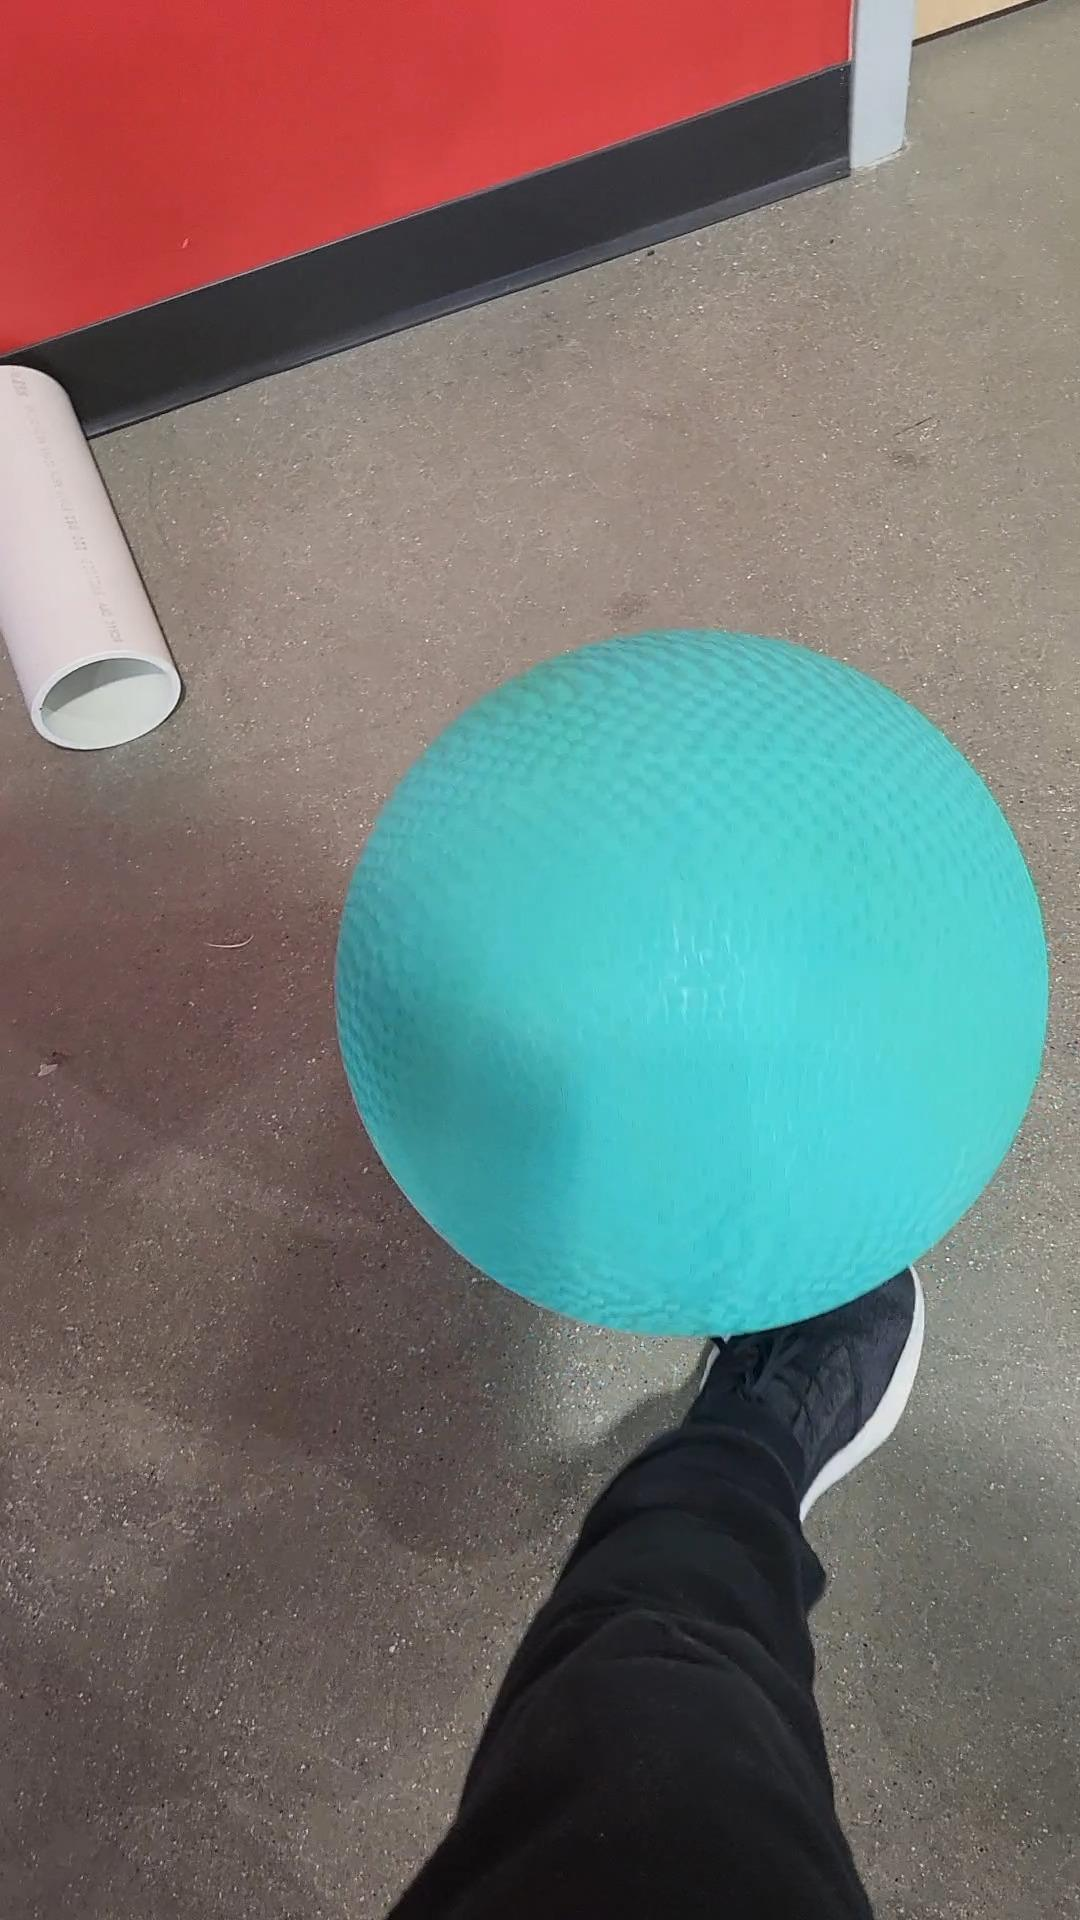algae: (331, 616, 1071, 1337)
coral: (0, 323, 166, 769)
